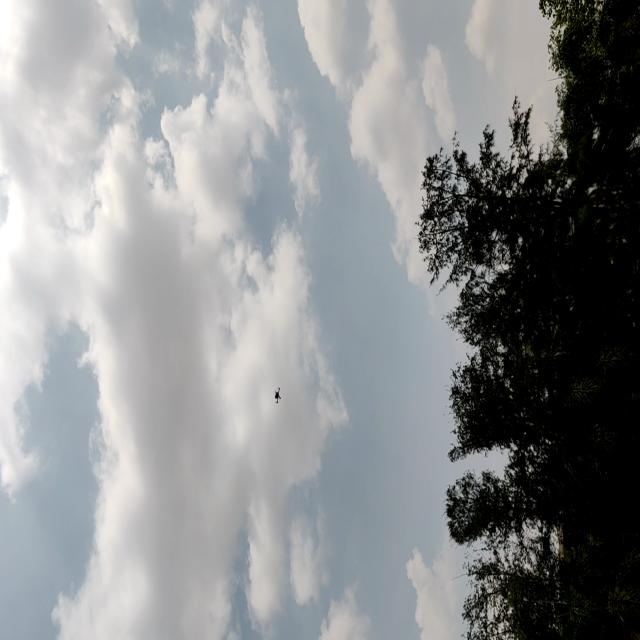drone: (270, 378, 282, 411)
